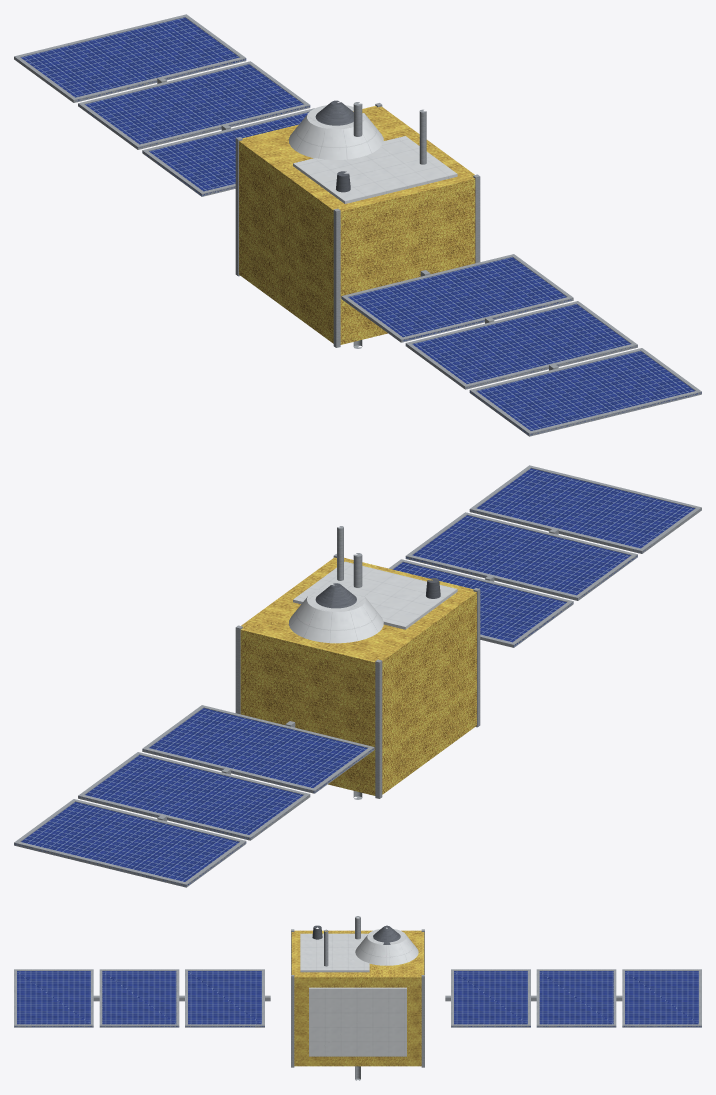
Rendered from generic-sat.glb.
The picture shows the model from 3 angles, top to bottom: view 1: azimuth 30°, elevation 25°; view 2: azimuth 150°, elevation 25°; view 3: azimuth 270°, elevation 25°; orthographic projection. The views are drawn at different scales.
Size of the model in its own units: 2.3 by 3.1 by 11.9.
Materials: 6 (6 with a texture image).
